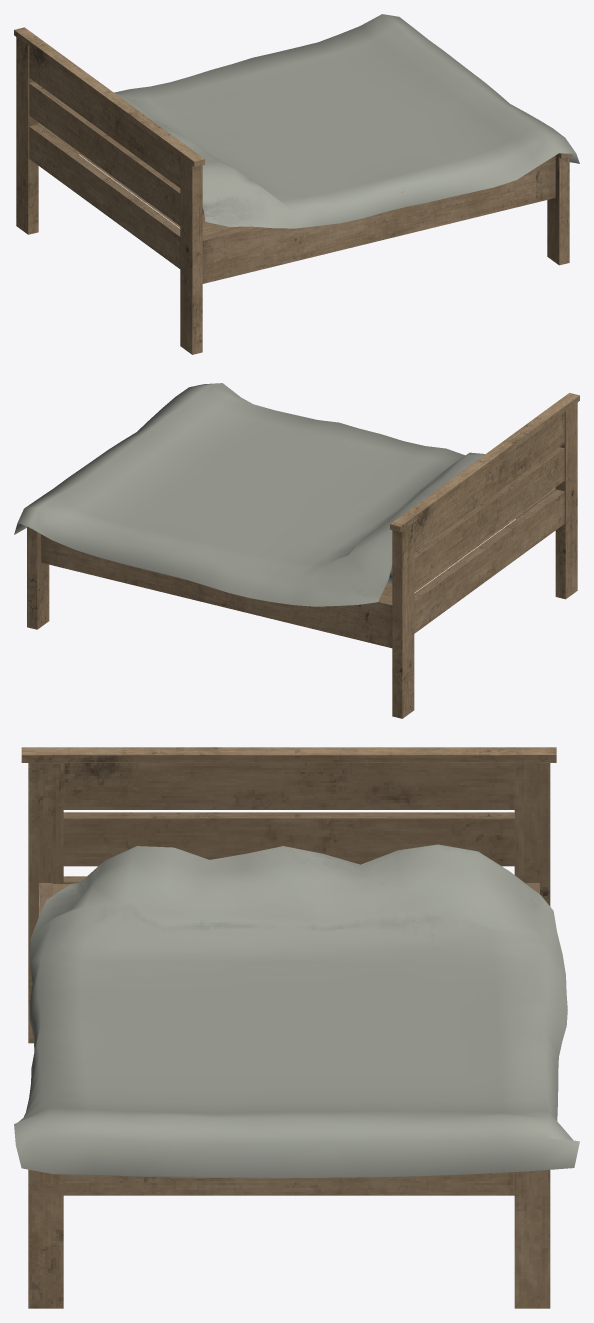
The model's file is bed6.glb.
3 renders of one model, top to bottom at view 1: azimuth 30°, elevation 25°; view 2: azimuth 150°, elevation 25°; view 3: azimuth 270°, elevation 25°, orthographic. The views are drawn at different scales.
Parts seen in each view (by area): view 1: Object_2; view 2: Object_2; view 3: Object_2.
Part boxes in pixels (bbox=[...]): Object_2: bbox=[14, 14, 579, 354]; Object_2: bbox=[14, 383, 579, 718]; Object_2: bbox=[14, 747, 579, 1308].
Size of the model in its own units: 7.46 by 3.6 by 6.4.
1 material, 1 textured.
